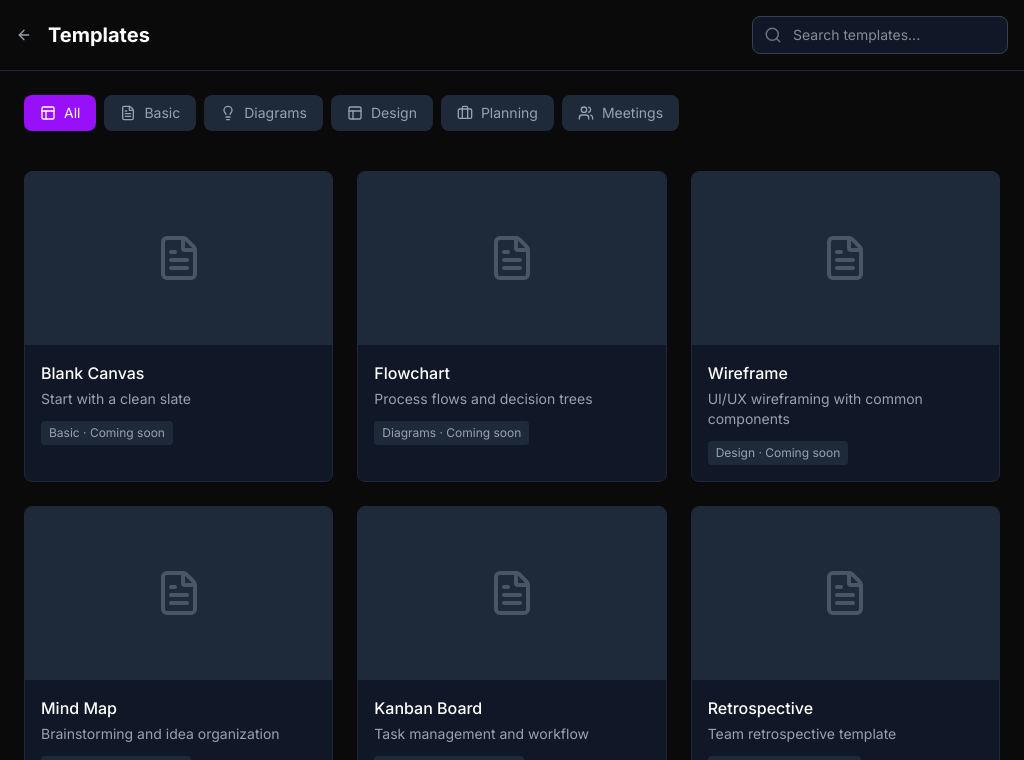
Test: /templates — filtering › hides the empty-state copy while there are results
The image size is (1024, 760).
Expected: the text "No templates found matching your search." is not shown
Type "zzz" into the field with placeholder "Search templates...". click: (880, 35)
box: [752,16,1008,54]
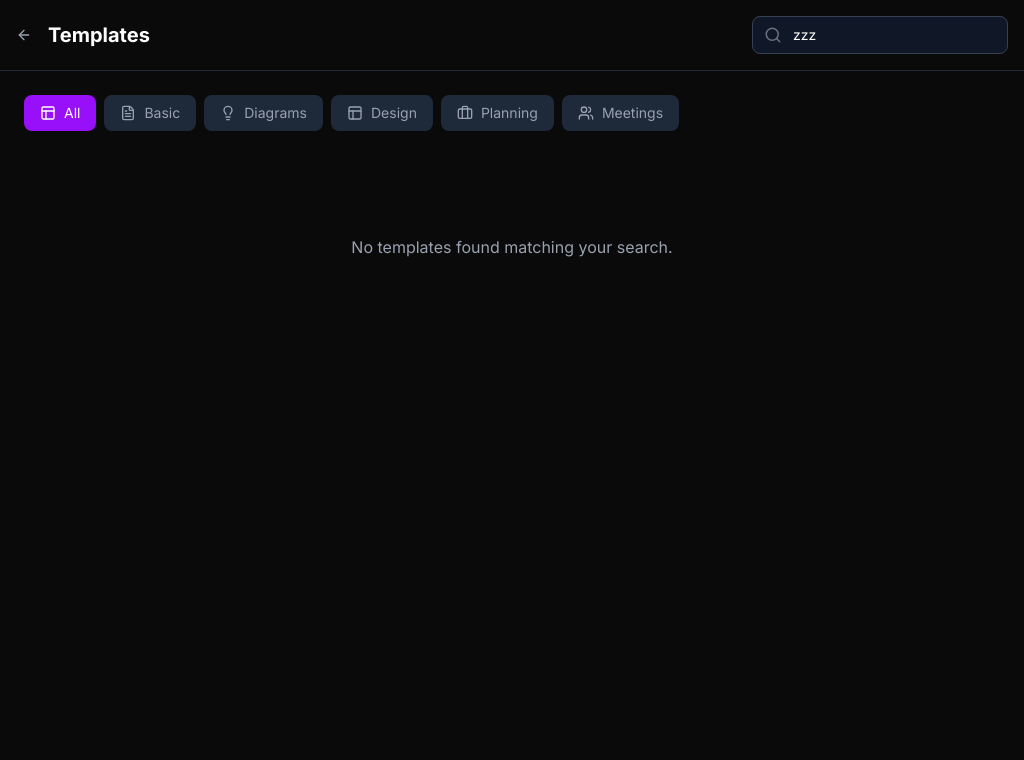
Expected: the text "No templates found matching your search." is shown, [351,237,673,257]
Clear the field with placeholder "Search templates...". click: (880, 35)
box: [752,16,1008,54]
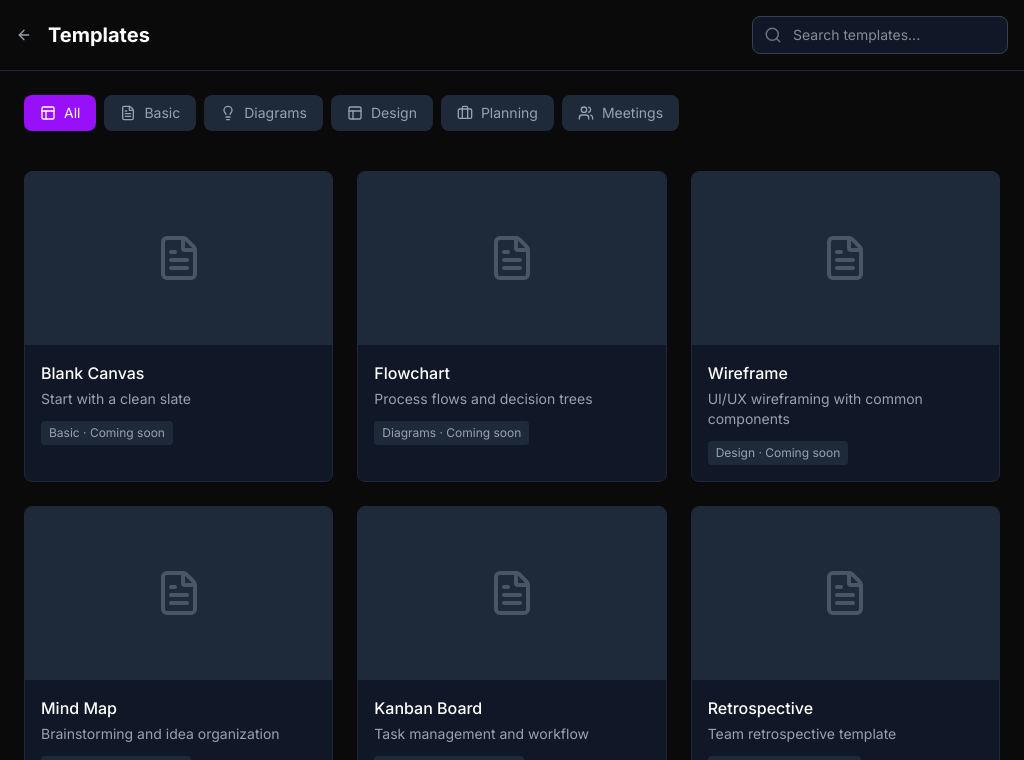
Expected: the text "No templates found matching your search." is gone
